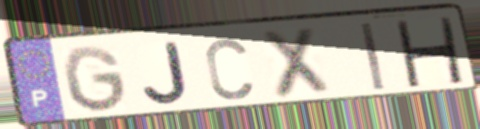C: (201, 35, 256, 103)
G: (60, 44, 131, 115)
H: (391, 16, 466, 87)
I: (357, 21, 388, 93)
J: (139, 38, 192, 107)
X: (257, 24, 334, 102)
